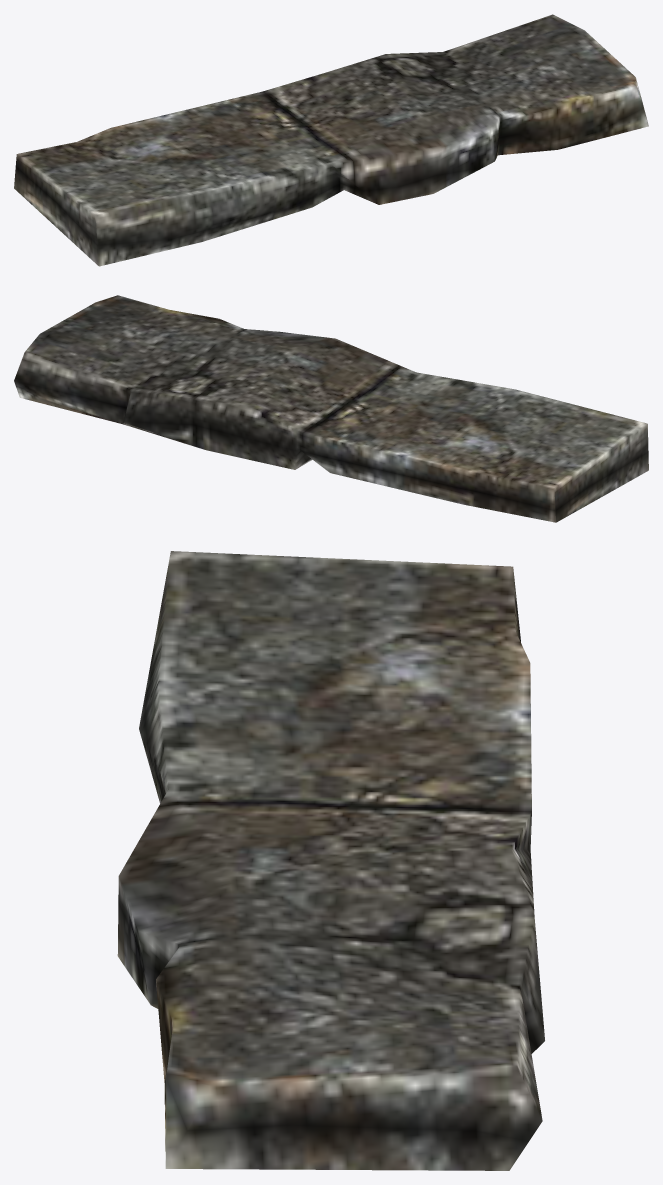
The model's file is Stair1.fbx.
3 views of the same model, one above another, from view 1: azimuth 30°, elevation 25°; view 2: azimuth 150°, elevation 25°; view 3: azimuth 270°, elevation 25° (orthographic). The views are drawn at different scales.
Parts seen in each view (by area): view 1: polySurface1; view 2: polySurface1; view 3: polySurface1.
Boxes of the visible parts, box(x1,y1,x2,y2) form: polySurface1: box(14, 14, 648, 266); polySurface1: box(14, 295, 648, 522); polySurface1: box(117, 551, 544, 1170).
Size of the model in its own units: 8.81 by 0.8134 by 2.99.
